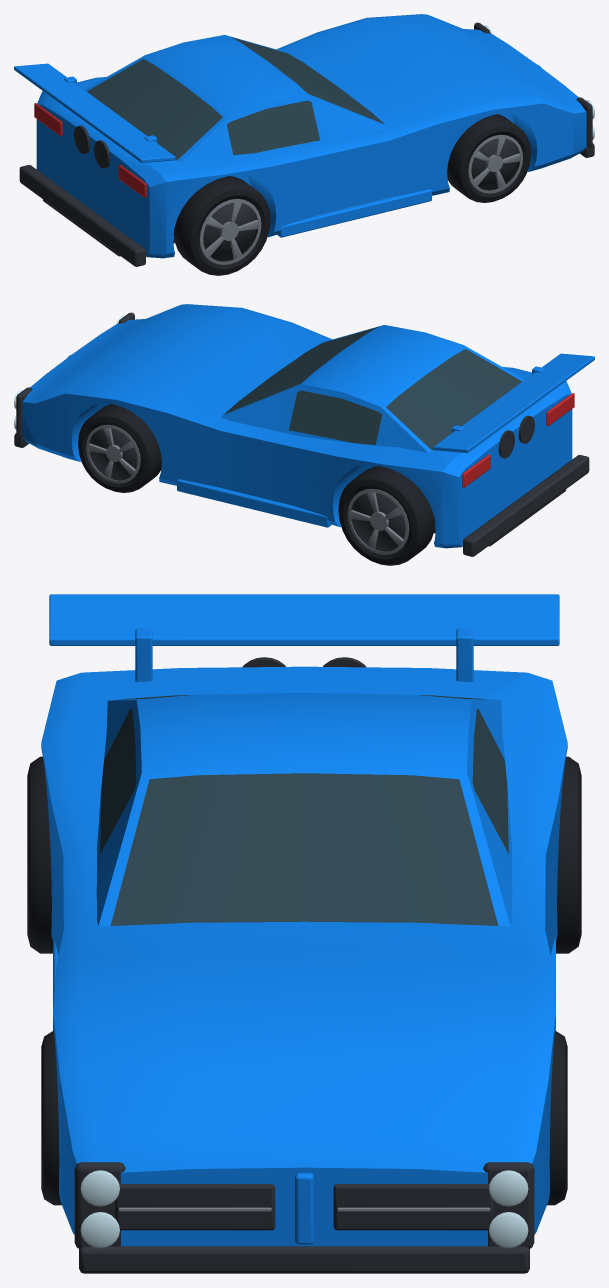
3 renders of one model, top to bottom at view 1: azimuth 30°, elevation 25°; view 2: azimuth 150°, elevation 25°; view 3: azimuth 270°, elevation 25°, orthographic. The views are drawn at different scales.
Visible parts, largest first — view 1: flat-car-body, wheel-rear-right, wheel-front-right; view 2: flat-car-body, wheel-rear-left, wheel-front-left; view 3: flat-car-body, wheel-rear-left, wheel-rear-right, wheel-front-left, wheel-front-right.
Boxes of the visible parts, x1,y1,x2,y2 form: flat-car-body: [14, 14, 594, 266]; wheel-rear-right: [173, 176, 270, 275]; wheel-front-right: [447, 114, 530, 202]; flat-car-body: [14, 304, 594, 556]; wheel-rear-left: [338, 466, 435, 565]; wheel-front-left: [78, 404, 161, 492]; flat-car-body: [41, 594, 567, 1273]; wheel-rear-left: [556, 756, 581, 953]; wheel-rear-right: [27, 756, 52, 953]; wheel-front-left: [547, 1030, 567, 1205]; wheel-front-right: [41, 1030, 61, 1205].
Bounding box in the file's own units: 1.47 × 0.4303 × 0.76.
